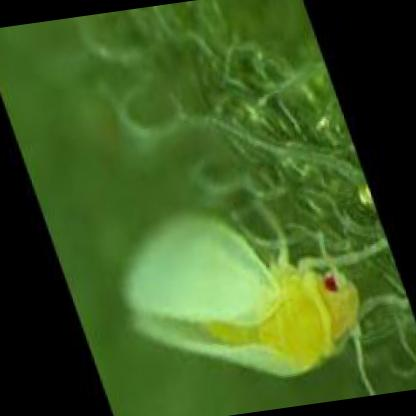whitefly: (122, 214, 357, 378)
